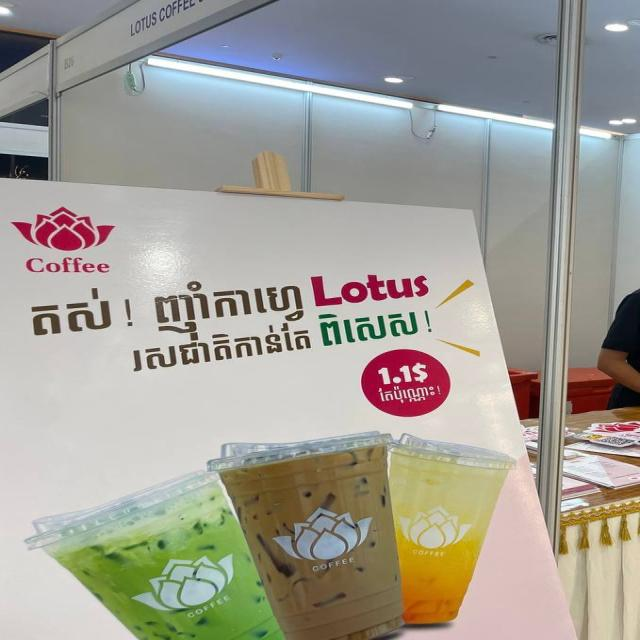1: (21, 264, 313, 355), (125, 302, 437, 375)
510: (369, 357, 433, 388)
Yolov11kh: (373, 380, 444, 405)
